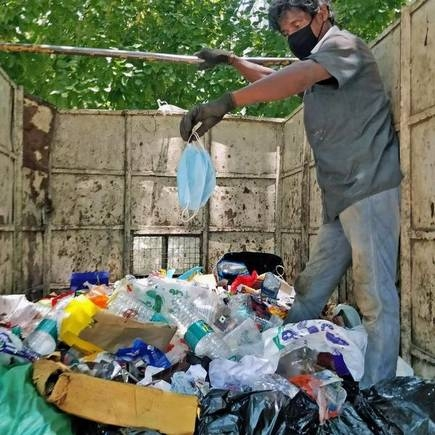plastic: (246, 317, 380, 379), (319, 369, 435, 434), (195, 379, 301, 435), (1, 360, 77, 435), (163, 295, 231, 368), (16, 299, 75, 363), (104, 291, 179, 340), (115, 336, 170, 375)
